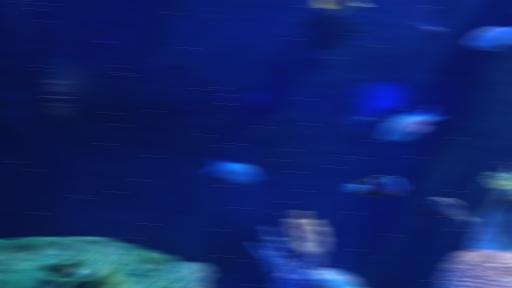Fish: (379, 106, 442, 141), (205, 158, 258, 183), (347, 175, 404, 198), (465, 26, 511, 50), (436, 197, 475, 223), (315, 0, 368, 15), (416, 22, 441, 32)
